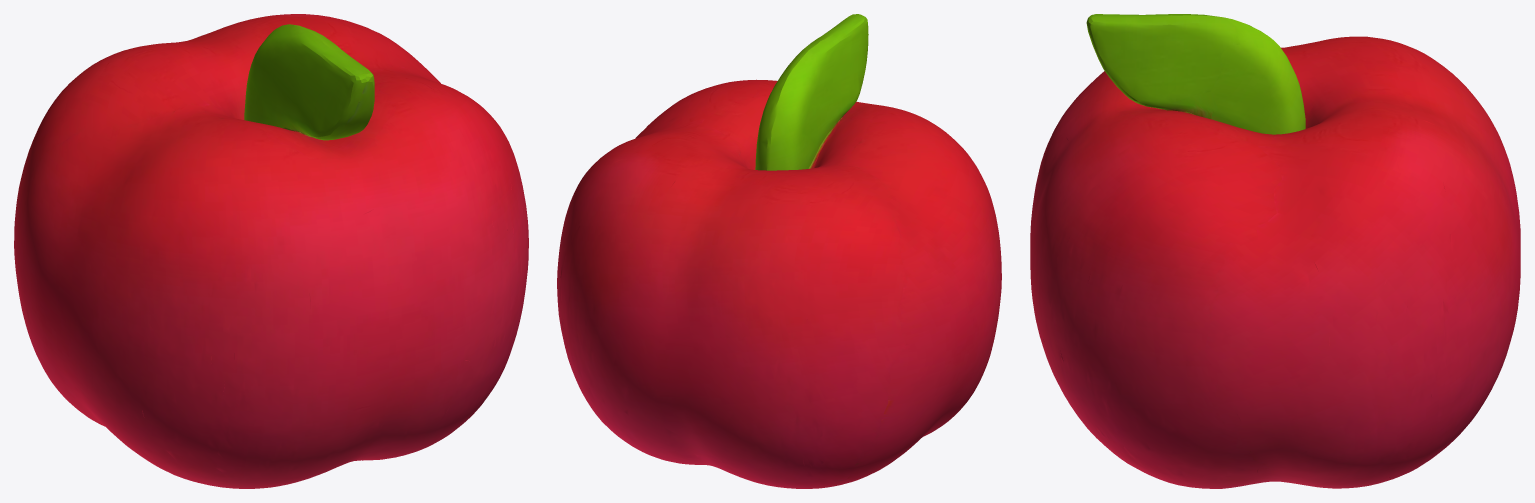
Rendered from apple.glb.
3 renders of one model, left to right at view 1: azimuth 30°, elevation 25°; view 2: azimuth 150°, elevation 25°; view 3: azimuth 270°, elevation 25°, orthographic. The views are drawn at different scales.
Parts seen in each view (by area): view 1: model; view 2: model; view 3: model.
Part boxes in pixels (x1=…): model: x1=14, y1=14, x2=528, y2=488; model: x1=557, y1=14, x2=1001, y2=488; model: x1=1030, y1=14, x2=1520, y2=488.
Bounding box in the file's own units: 1 × 0.9275 × 0.9717.
1 material, 1 textured.
